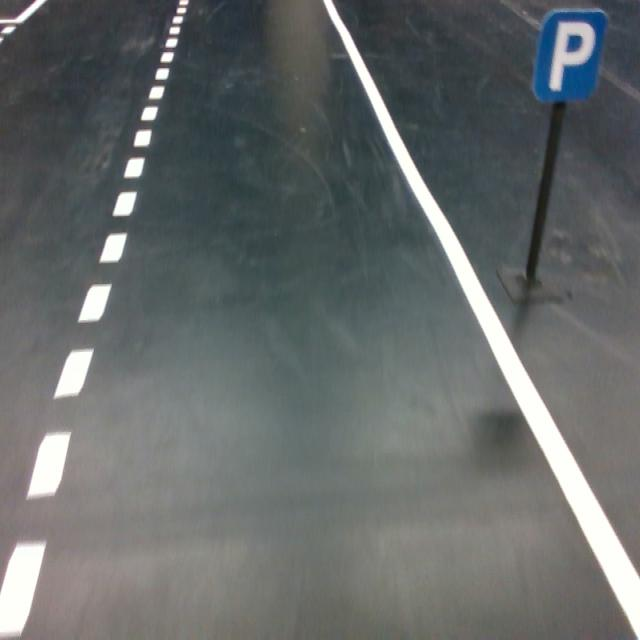parking-sign: (531, 7, 610, 105)
